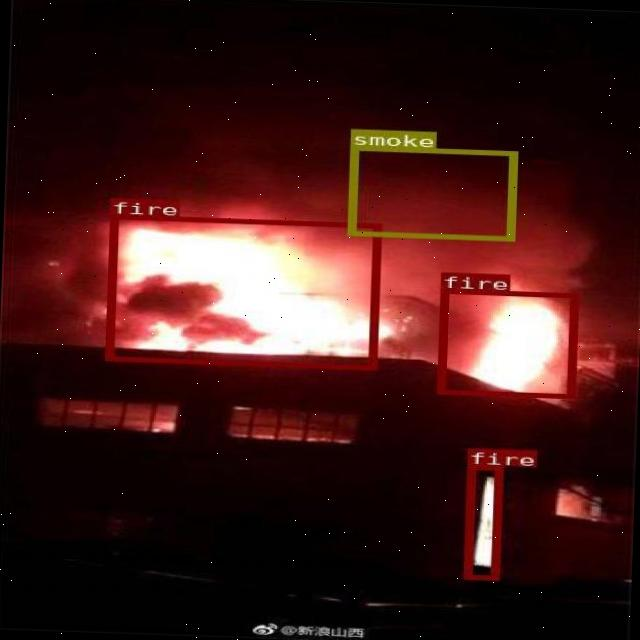fire: (104, 214, 378, 368), (436, 287, 576, 398), (462, 464, 502, 578)
smoke: (345, 145, 515, 240)
